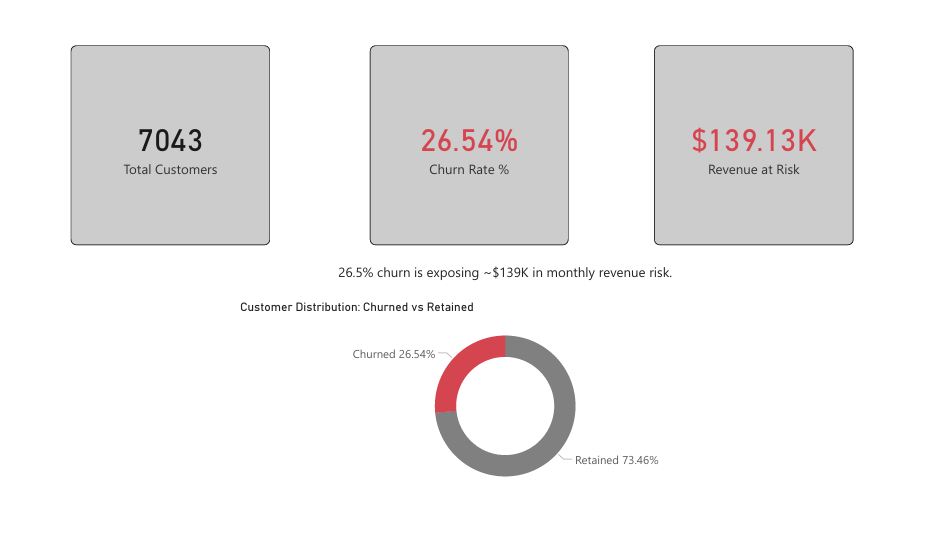

Layout of this report page (visuals, bound fields, positions):
{"tool":"powerbi","page":{"name":"Executive Overview","canvas":[1280,720],"ordinal":0},"visuals":[{"type":"card","fields":{"Values":["analytics fact_customer_churn.Total Customers"]},"box":[78.4,41.1,279.9,279.9],"z":0},{"type":"card","fields":{"Values":["analytics fact_customer_churn.Churn Rate %"]},"box":[497.6,41.1,279.9,279.9],"z":1000},{"type":"card","fields":{"Values":["analytics fact_customer_churn.Revenue at Risk"]},"box":[897.4,41.2,279.9,279.9],"z":2000},{"type":"donutChart","title":"Customer Distribution: Churned vs Retained","fields":{"Category":["Churn Status.Status"],"Y":["analytics fact_customer_churn.Customers by Status"]},"box":[311,396.8,753.8,279.9],"z":3000},{"type":"textbox","box":[291.1,340.8,793.6,38.6],"z":4000}]}

Visuals, with their boxes on the page's 1280x720 design canvas (x1, y1, x2, y2). These are canvas units, not pixel positions in the 944x548 screenshot, which may show the page scaled, cropped or inside an application window:
card - analytics fact_customer_churn.Total Customers: 78/41/358/321
card - analytics fact_customer_churn.Churn Rate %: 498/41/778/321
card - analytics fact_customer_churn.Revenue at Risk: 897/41/1177/321
"Customer Distribution: Churned vs Retained" donutChart: 311/397/1065/677
textbox: 291/341/1085/379
